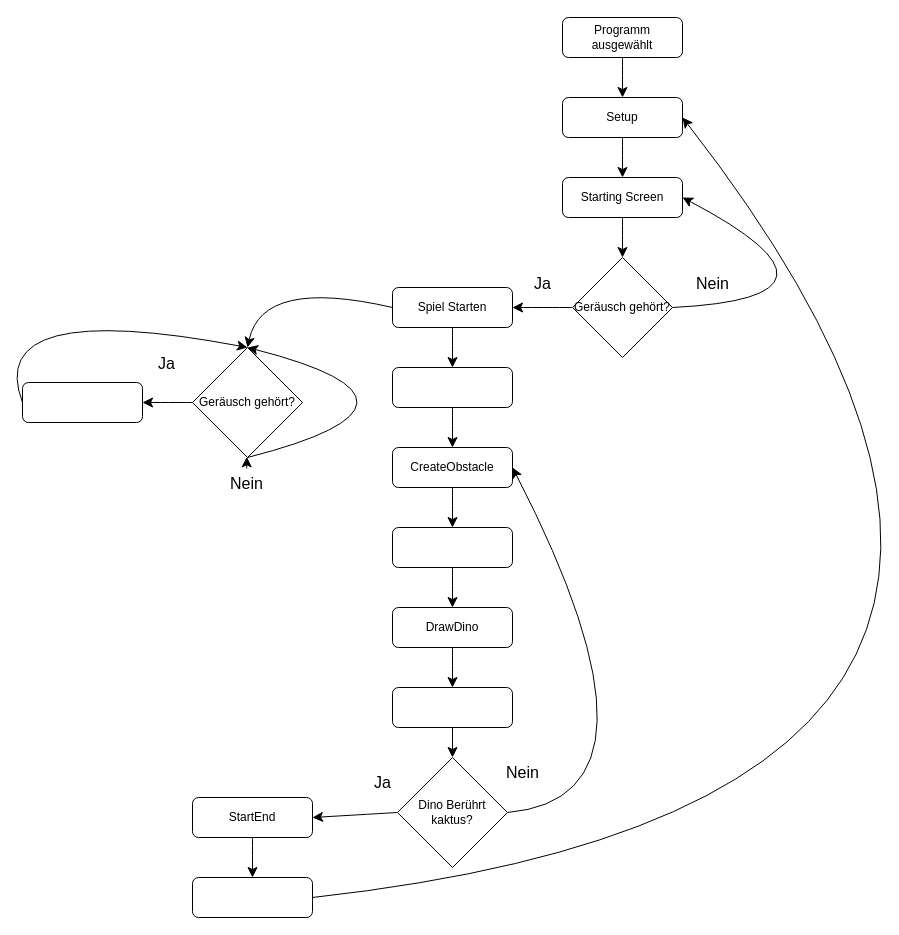
Some shapes in this 899 by 935 pixel diagram are drawn without their labels. Each missing label, with the box of its shape:
DinoJump: (22, 382, 142, 422)
DrawGround: (392, 366, 512, 408)
DrawObstacle: (392, 526, 512, 568)
Move Obstacle: (392, 686, 512, 728)
WaitForNoise: (192, 876, 312, 918)
